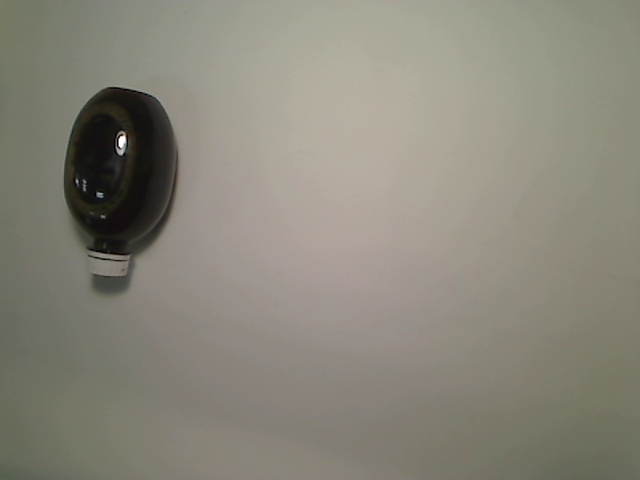plast_bottle: (60, 83, 184, 280)
